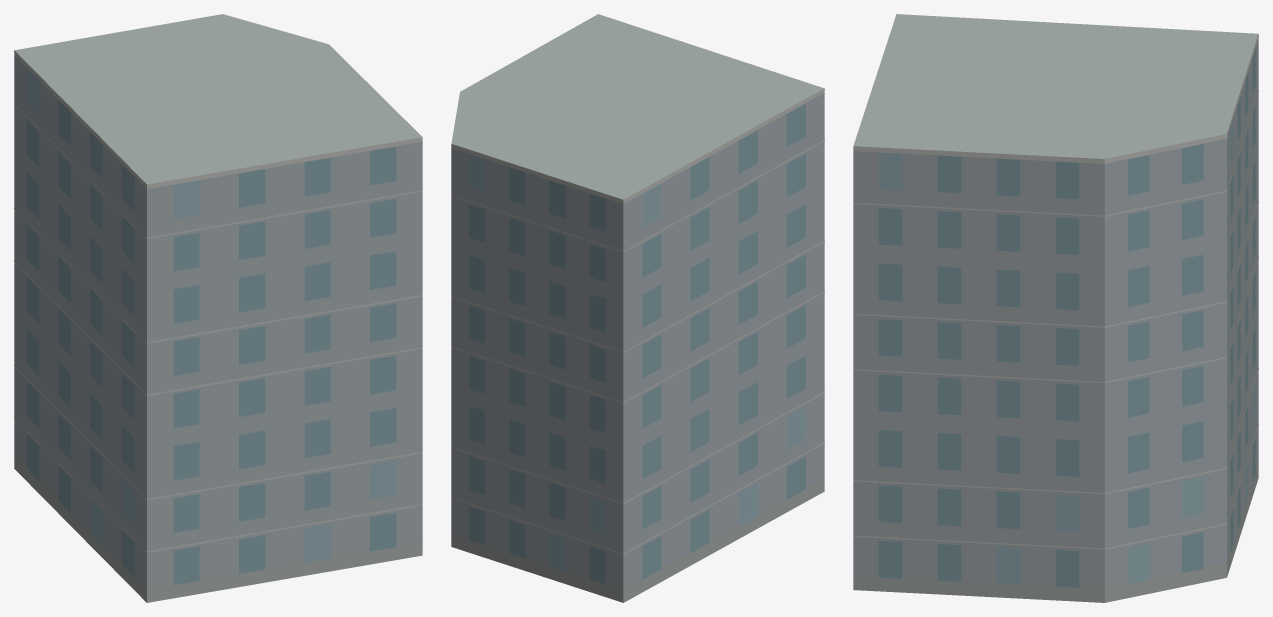
Rendered from survey-upis-32802088.glb.
The picture shows the model from 3 angles, left to right: view 1: azimuth 30°, elevation 25°; view 2: azimuth 150°, elevation 25°; view 3: azimuth 270°, elevation 25°; orthographic projection. The views are drawn at different scales.
Visible parts, largest first — view 1: survey-upis-32802088.tmp; view 2: survey-upis-32802088.tmp; view 3: survey-upis-32802088.tmp.
Part boxes in pixels (x1=…): survey-upis-32802088.tmp: x1=14, y1=14, x2=422, y2=602; survey-upis-32802088.tmp: x1=451, y1=14, x2=824, y2=602; survey-upis-32802088.tmp: x1=853, y1=14, x2=1258, y2=602.
Bounding box in the file's own units: 15.52 × 22.1 × 18.32.
